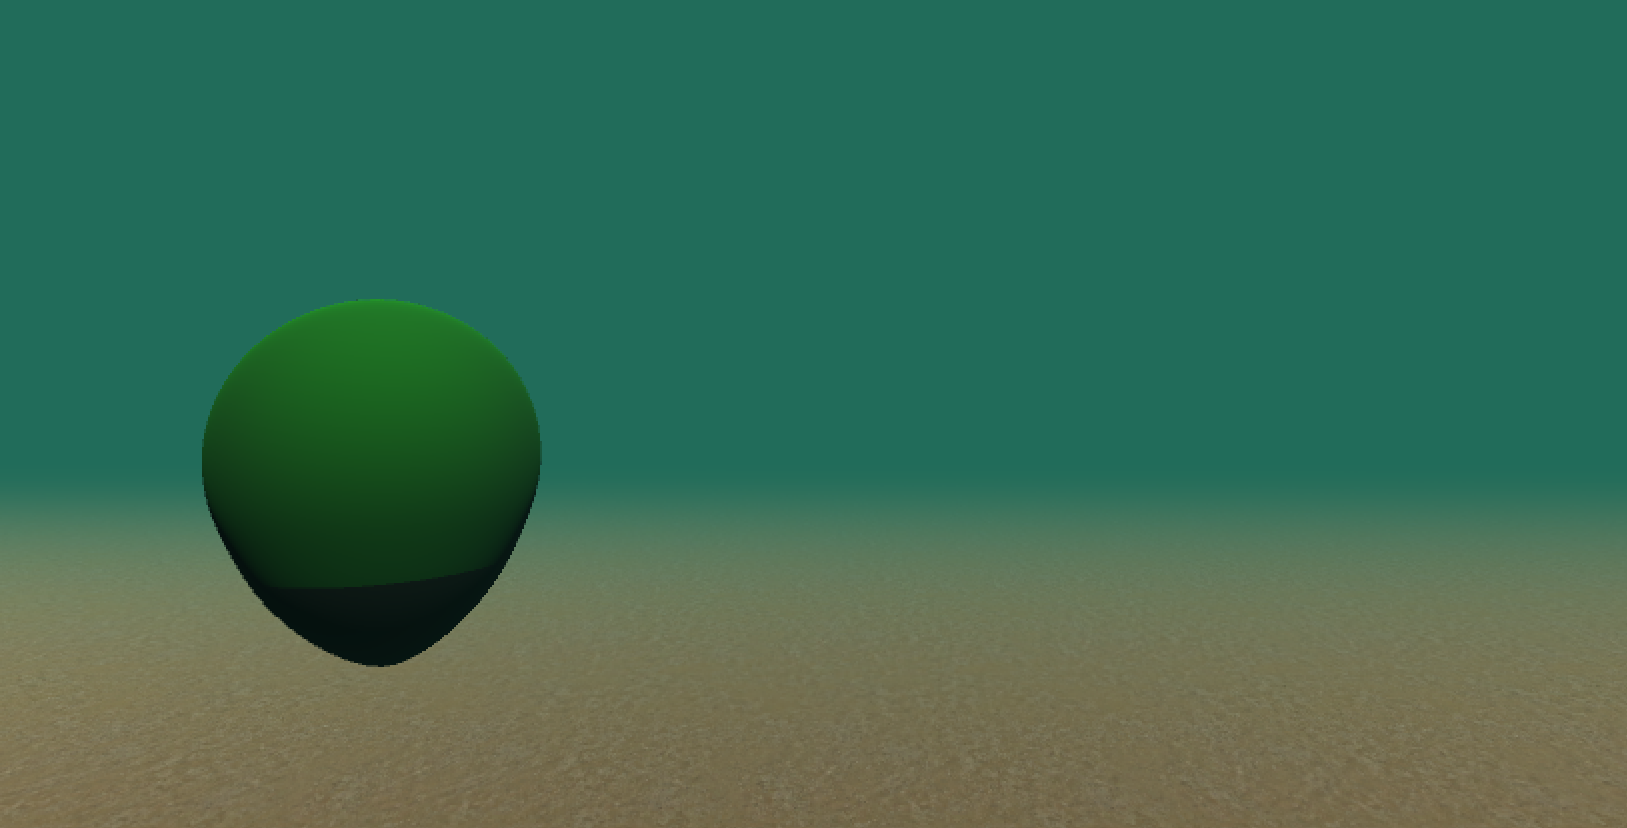green buoy: (196, 294, 551, 670)
